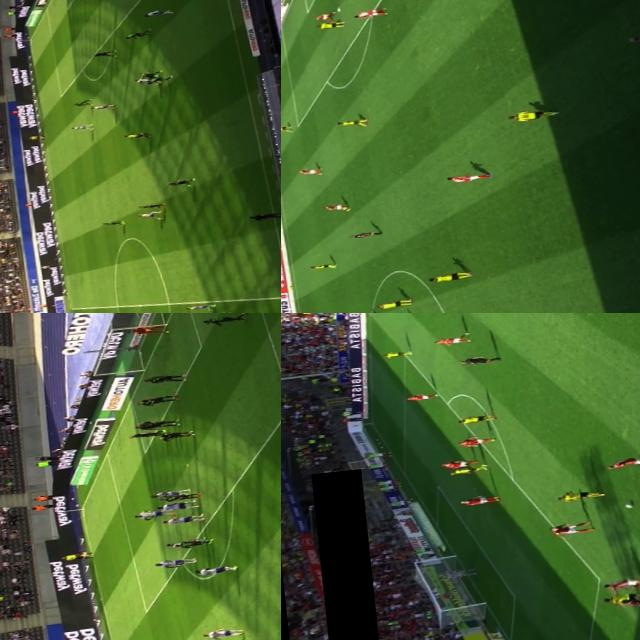ball: (621, 502, 634, 510), (333, 8, 341, 13), (151, 74, 159, 78)
player: (505, 108, 558, 126), (556, 488, 607, 504), (148, 554, 195, 570), (368, 296, 409, 312), (594, 576, 640, 590), (548, 522, 594, 536), (197, 626, 242, 640), (128, 323, 171, 337), (128, 508, 170, 522), (143, 372, 185, 386), (442, 171, 487, 184), (428, 270, 469, 284), (134, 418, 178, 431), (600, 456, 640, 470), (428, 334, 474, 346), (601, 591, 640, 605), (432, 458, 474, 471), (134, 394, 178, 406), (161, 538, 204, 550), (203, 313, 244, 325), (454, 496, 495, 508), (192, 564, 232, 576), (158, 515, 198, 527), (454, 436, 494, 448), (400, 390, 440, 402), (334, 116, 368, 130), (144, 488, 183, 500), (172, 538, 210, 550), (140, 8, 175, 20), (156, 502, 198, 512), (378, 349, 416, 360), (294, 165, 326, 178), (444, 466, 485, 476), (320, 200, 350, 213), (154, 431, 193, 441), (125, 430, 163, 440), (439, 570, 477, 580), (616, 593, 640, 608), (159, 493, 197, 502), (457, 414, 491, 424), (352, 8, 384, 18), (143, 74, 172, 85), (136, 210, 162, 222), (84, 50, 115, 60), (163, 178, 194, 188), (308, 261, 334, 272), (316, 20, 342, 31), (66, 122, 94, 132), (120, 30, 150, 39), (184, 303, 214, 312), (132, 76, 156, 85), (99, 219, 125, 227), (312, 12, 332, 22), (136, 70, 160, 78), (91, 102, 115, 110), (136, 203, 163, 210), (70, 98, 91, 106), (207, 309, 237, 313), (281, 124, 292, 133)
